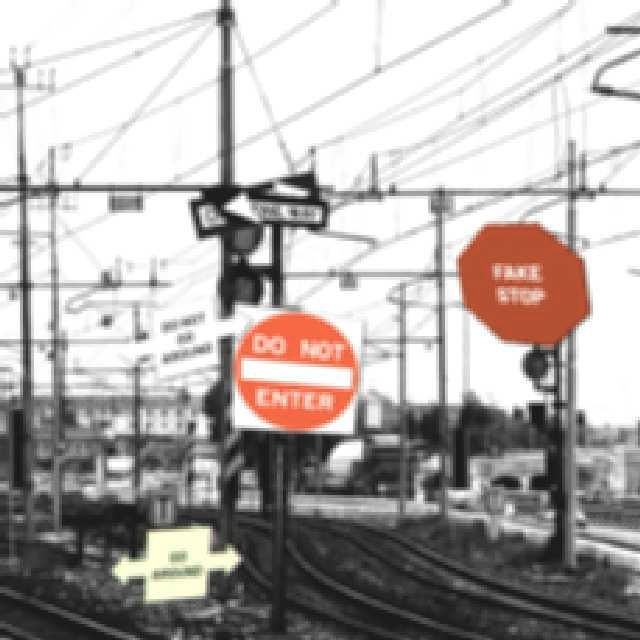DO_NOT_ENTER: (229, 300, 364, 434)
DO_NOT_GO_AROUND: (116, 292, 251, 380)
FAKE_STOP: (454, 220, 589, 345)
GO_AROUND: (107, 523, 242, 602)
ONE_WAY_ left: (192, 183, 327, 227)
ONE_WAY_ right: (186, 168, 321, 238)
